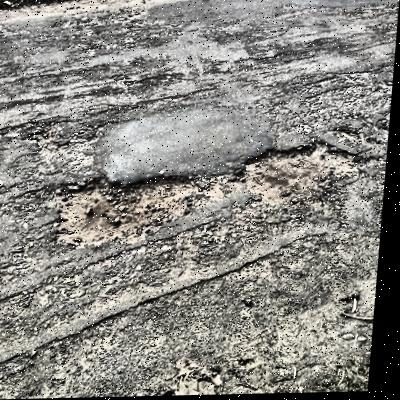pothole: (51, 171, 217, 250), (230, 139, 370, 209)
